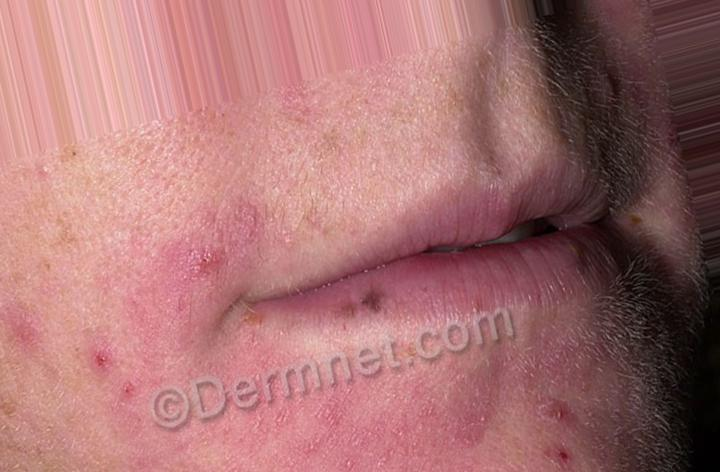Acne: (64, 327, 167, 426), (544, 381, 605, 472), (191, 234, 233, 284)
